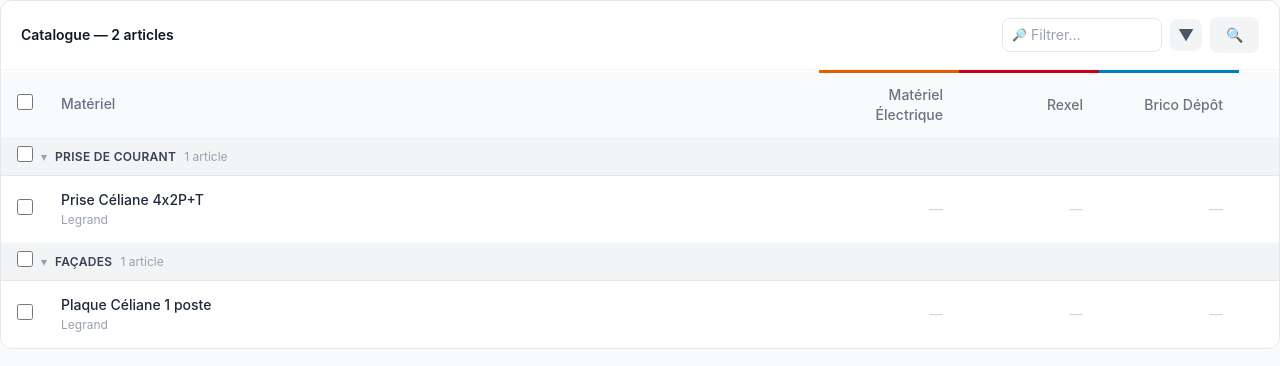
Test: PriceTable › collapses a category when its header row is clicked
The width and height of the screenshot is (1280, 366).
Expected: the text "Prise Céliane 4x2P+T" is shown, [61,191,204,208]
Expected: the text "Plaque Céliane 1 poste" is shown, [61,296,211,313]
Click the cell named "Replier la catégorie Prise de courant". click: x=116, y=156
box: [41,138,1279,176]
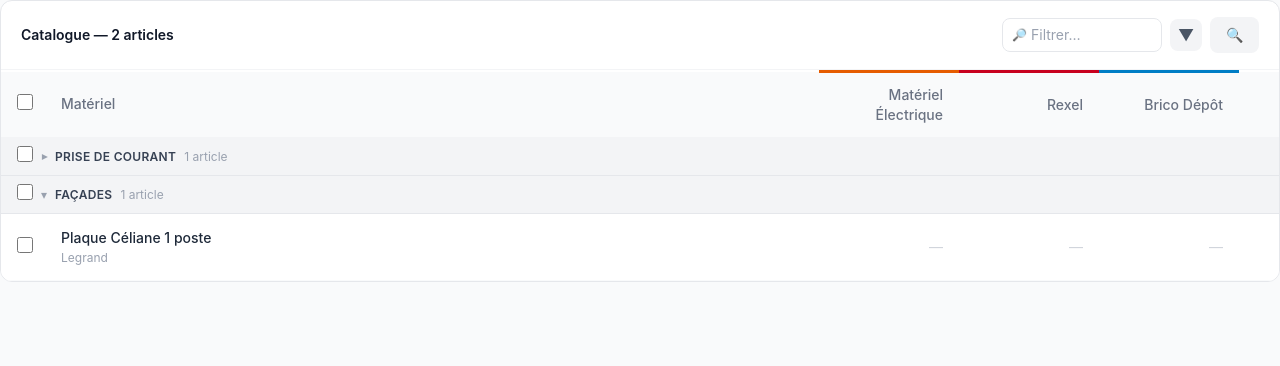
Expected: the text "Plaque Céliane 1 poste" is shown, [61,229,211,246]
Expected: the text "Prise Céliane 4x2P+T" is gone
